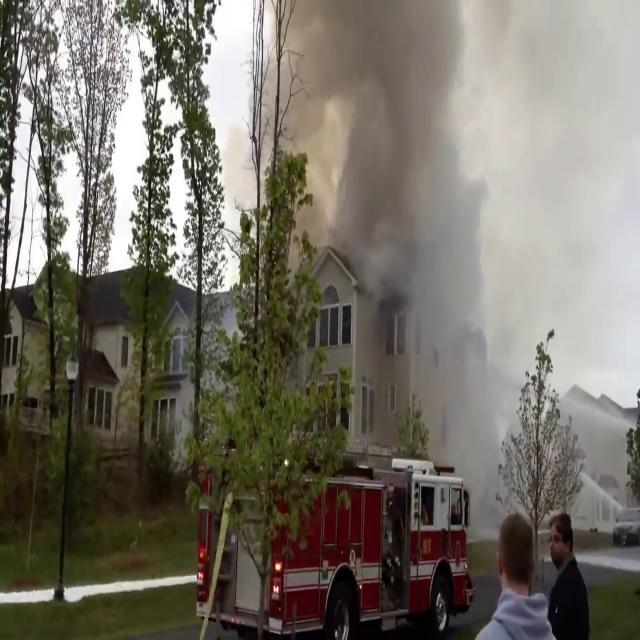Smoke: (313, 0, 497, 419)
